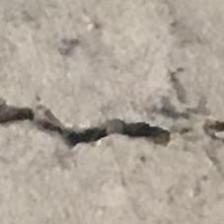Crack: (0, 86, 224, 175)
